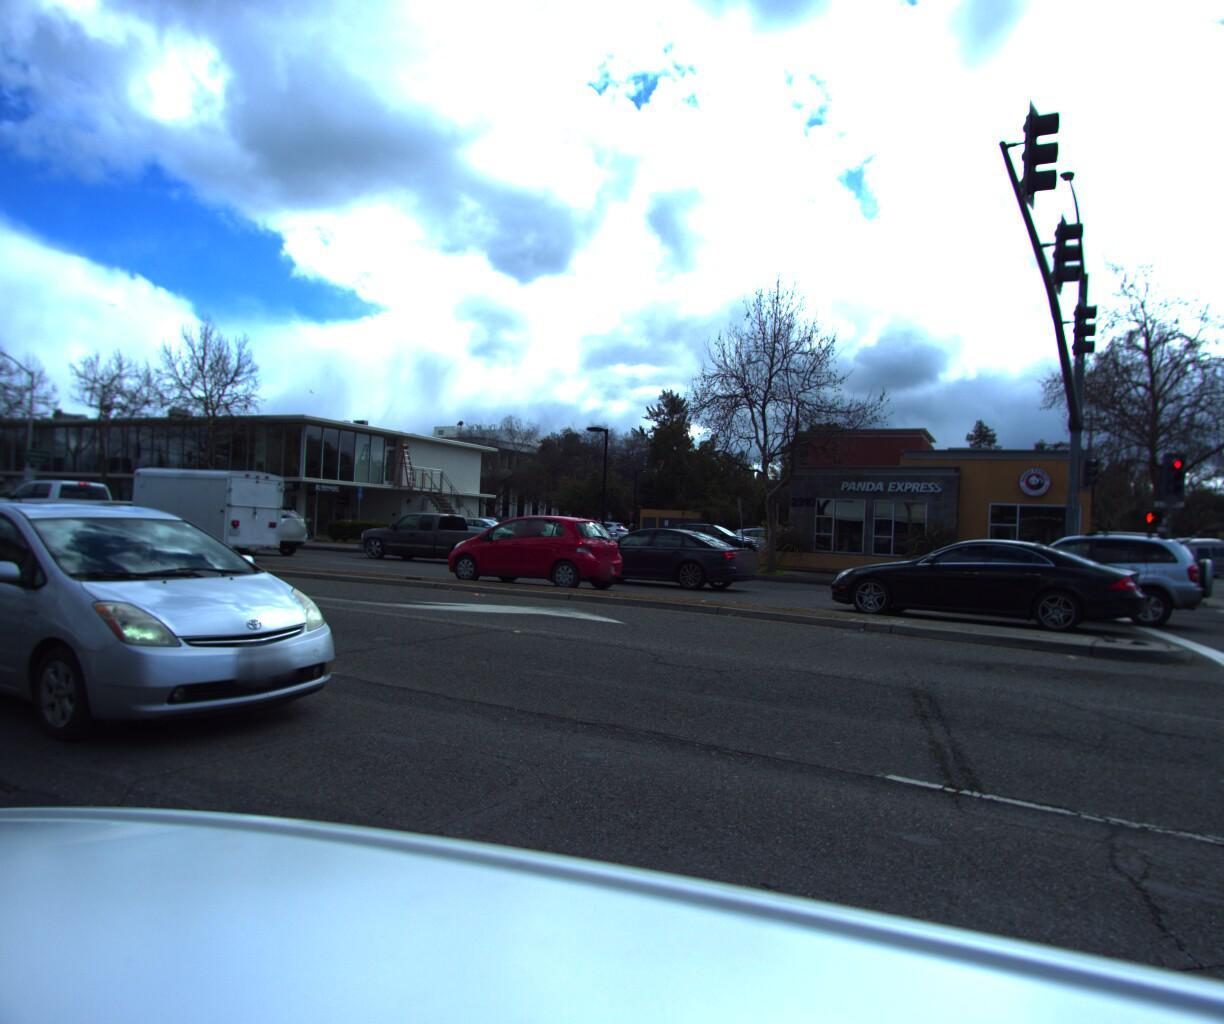car: (821, 535, 1147, 649), (936, 528, 1224, 638), (434, 514, 636, 600), (559, 528, 768, 601), (351, 514, 523, 573), (177, 502, 328, 563), (1156, 542, 1224, 581)
other_vehicle: (119, 470, 291, 568)
